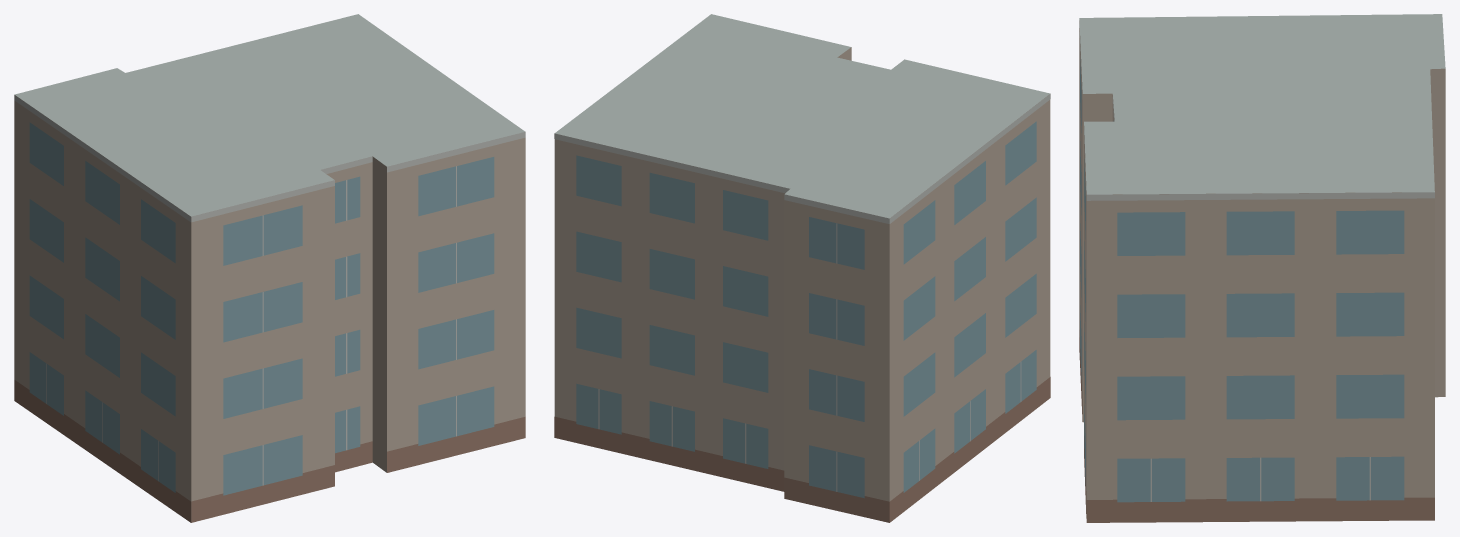
File: survey-upis-32919570.glb
The picture shows the model from 3 angles, left to right: view 1: azimuth 30°, elevation 25°; view 2: azimuth 150°, elevation 25°; view 3: azimuth 270°, elevation 25°; orthographic projection. The views are drawn at different scales.
Parts seen in each view (by area): view 1: survey-upis-32919570.tmp; view 2: survey-upis-32919570.tmp; view 3: survey-upis-32919570.tmp.
Part boxes in pixels (bbox=[...]): survey-upis-32919570.tmp: bbox=[14, 14, 525, 522]; survey-upis-32919570.tmp: bbox=[554, 14, 1050, 522]; survey-upis-32919570.tmp: bbox=[1079, 14, 1445, 522].
Bounding box in the file's own units: 15.23 × 12.9 × 13.06.
